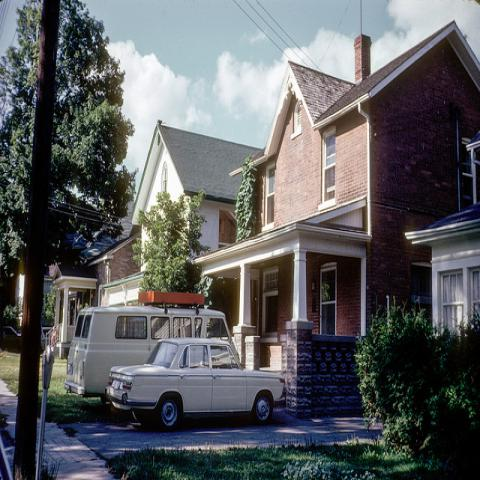car: (107, 342, 281, 428), (0, 325, 22, 353)
truck: (65, 292, 232, 394)
